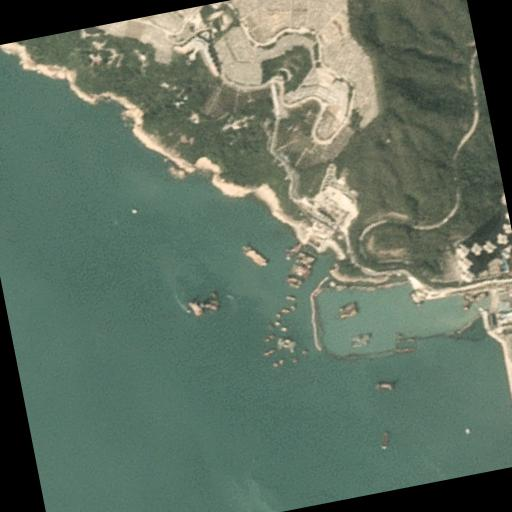ship: (242, 242, 270, 270), (376, 431, 392, 451)
